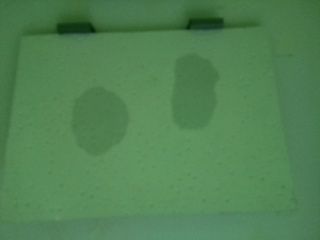Water_detected: (76, 98, 127, 151), (179, 74, 220, 129)
